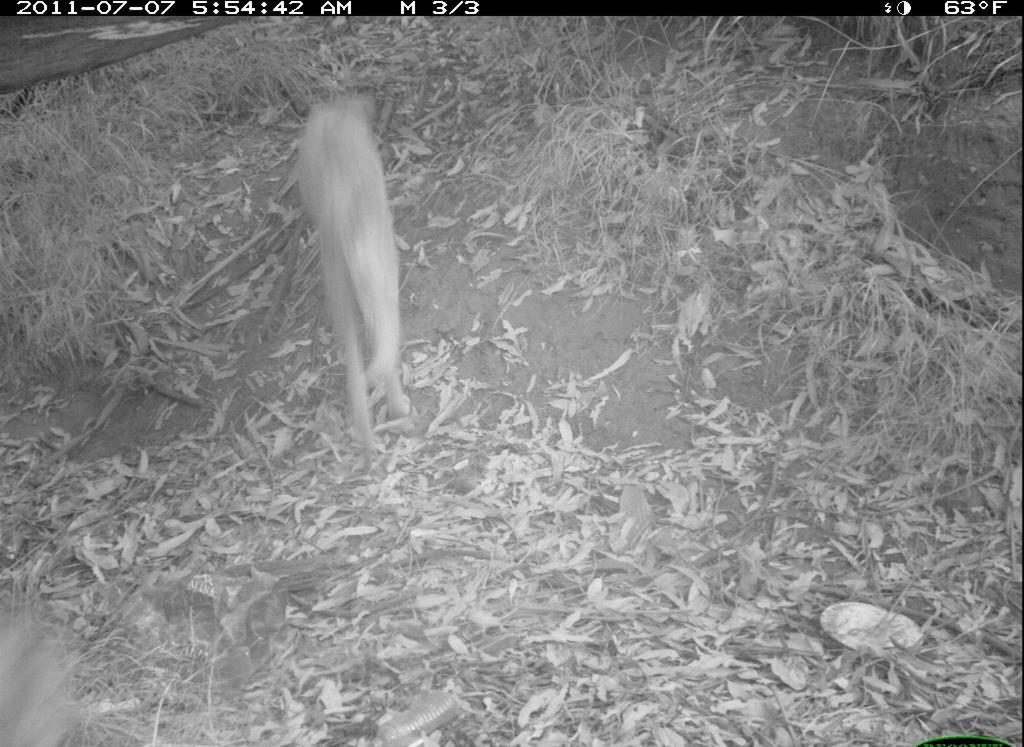dog: (291, 89, 420, 464)
